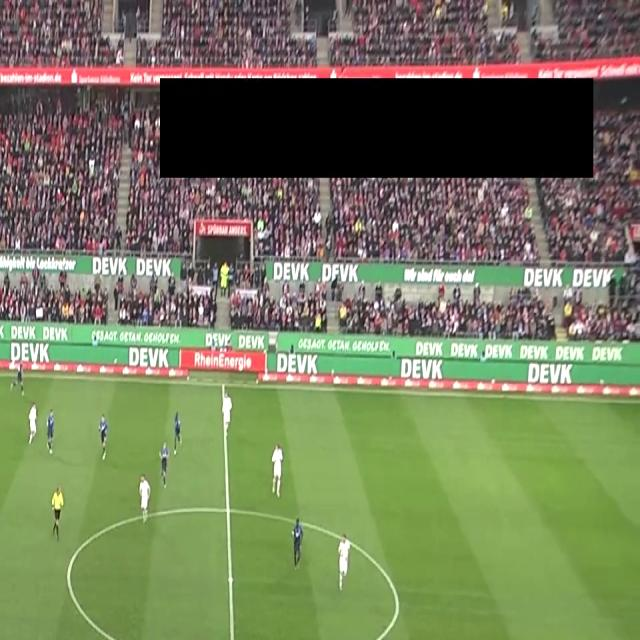referee: (48, 482, 71, 545)
soccer-player: (334, 528, 361, 596), (267, 442, 291, 504), (286, 510, 310, 570), (132, 470, 155, 524), (153, 440, 175, 490), (92, 411, 112, 464), (42, 405, 62, 458), (24, 400, 42, 448), (7, 356, 27, 398), (217, 383, 233, 434), (173, 409, 188, 452)
